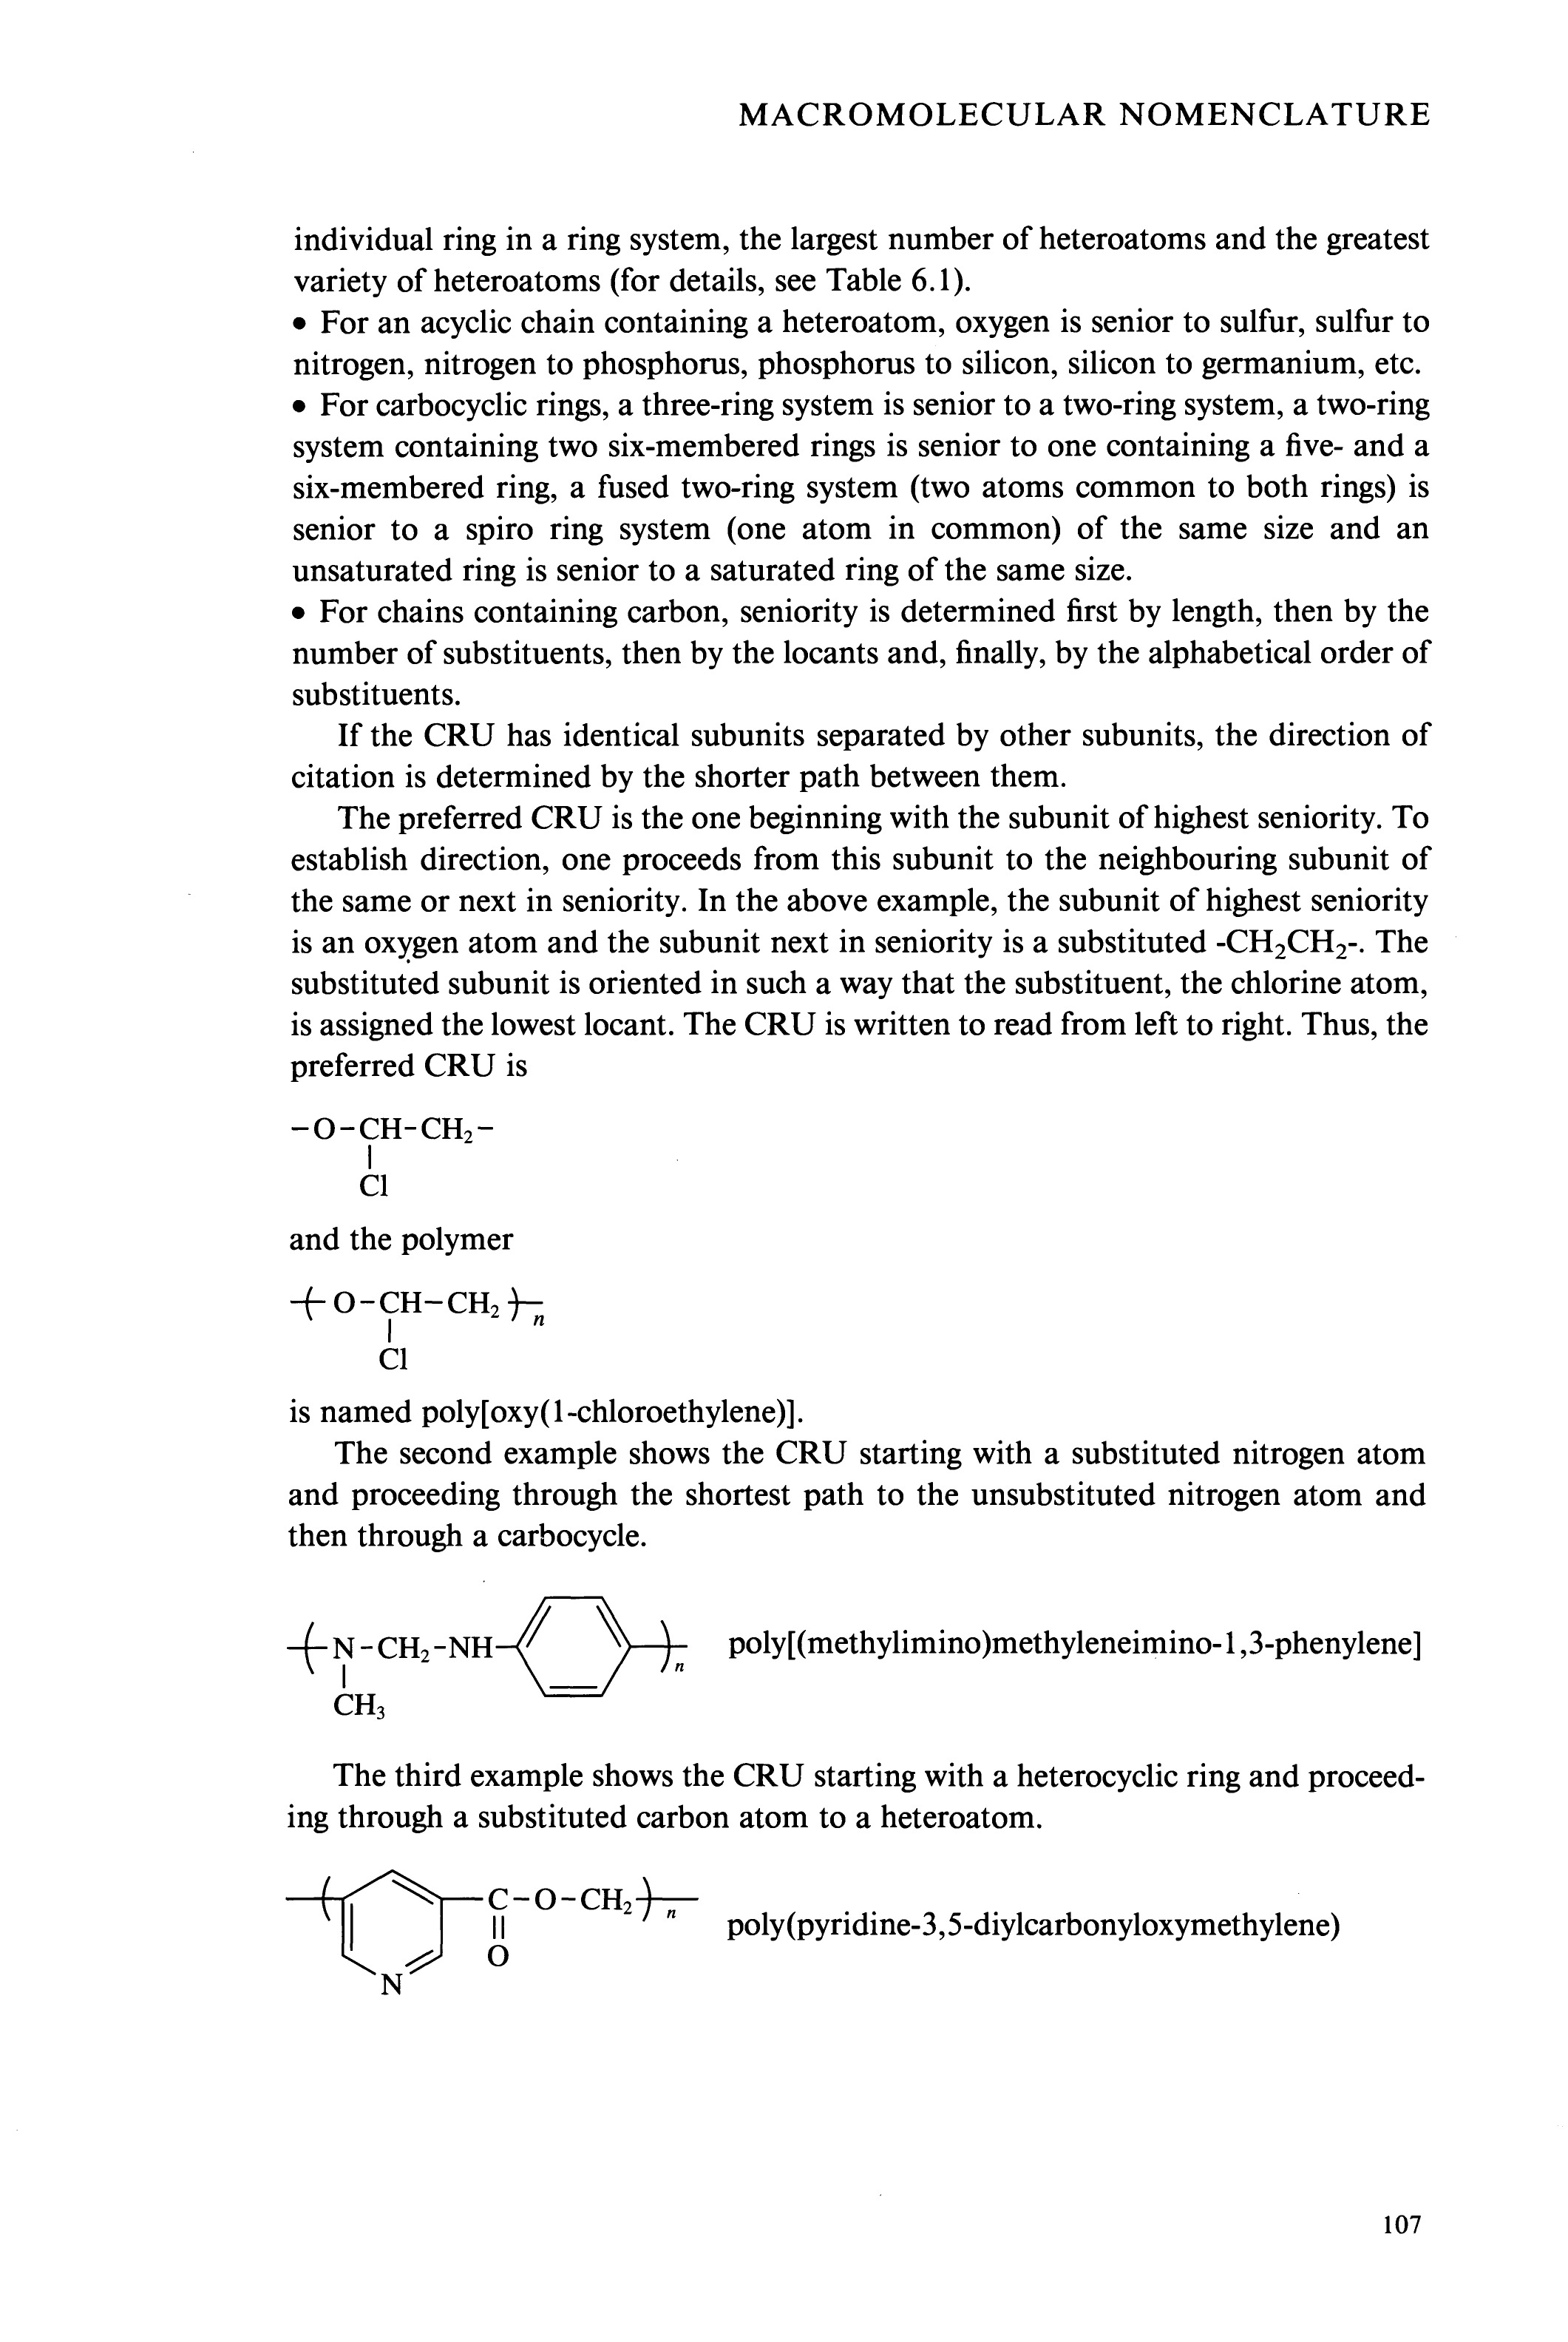figure: (269, 1111, 567, 1388), (276, 1584, 719, 1750), (283, 1868, 686, 2013)
list: (283, 301, 1445, 709)
text: (276, 789, 1435, 1094), (276, 1407, 1452, 1553), (273, 1740, 1449, 1850), (283, 205, 1445, 301), (276, 712, 1438, 802), (716, 1623, 1452, 1679), (716, 1896, 1388, 1945)
